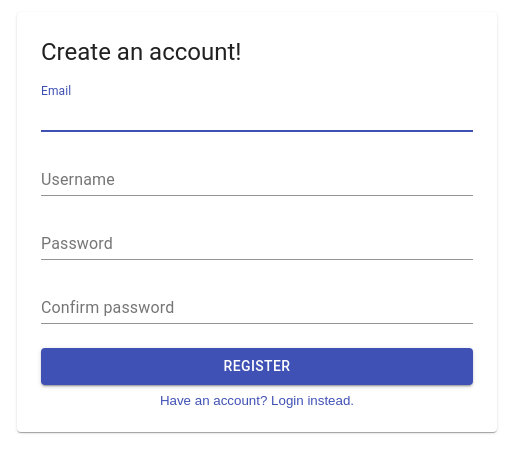
Test case: RegisterPage test › should render error on submitting invalid email
The image size is (515, 451).
Type "invalid email" into the field labelled "Email" at [257, 116], box [41,100,473,132]
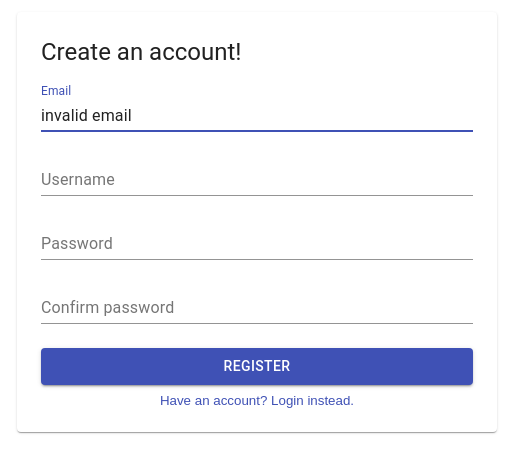
Click the button "Register" at [257, 366], box [41,348,473,384]
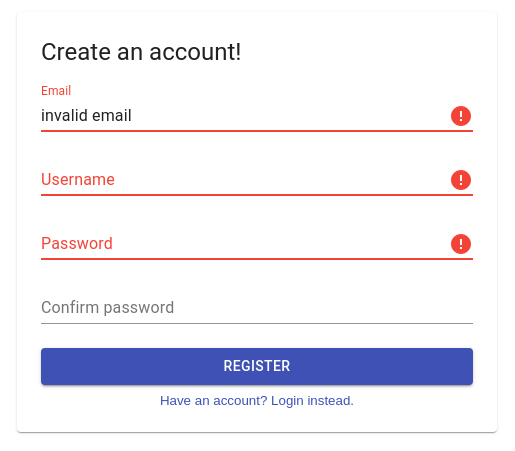
Expected: the icon with test id "email-error-icon" is shown, [449,104,473,128]
